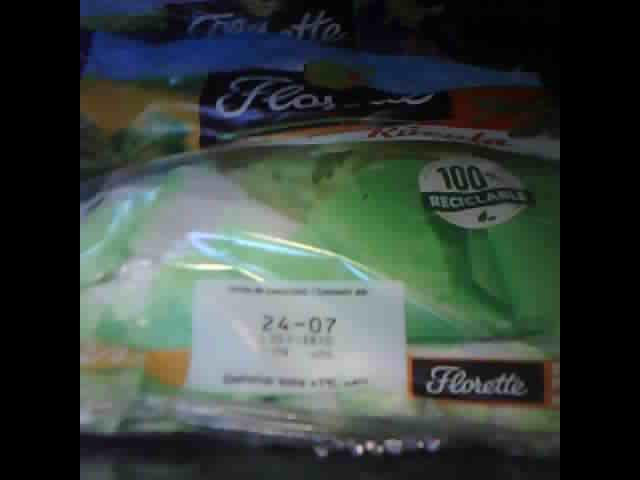florette: (80, 35, 557, 454), (78, 3, 367, 50)
